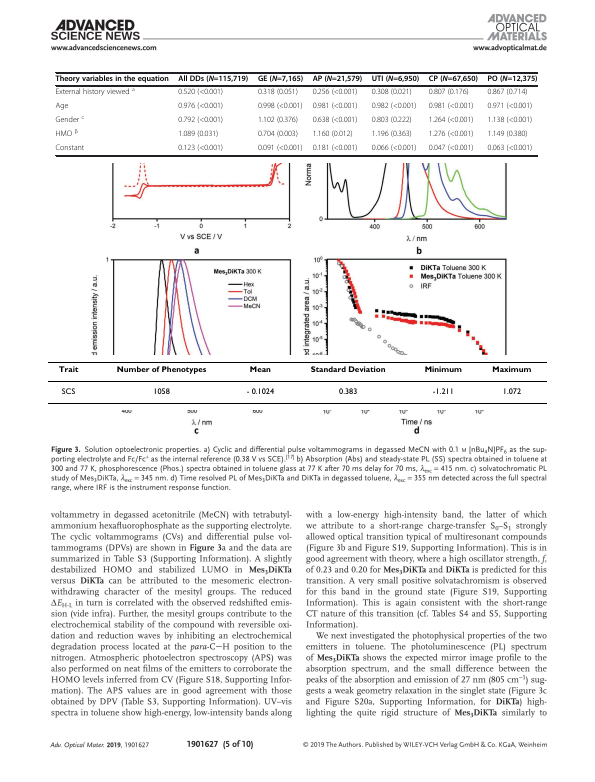borderless: (54, 71, 537, 155), (47, 360, 547, 403)
cell: (55, 75, 170, 84), (54, 86, 136, 98), (115, 365, 207, 374), (309, 365, 386, 374), (177, 75, 249, 84), (177, 88, 224, 98), (177, 102, 224, 112), (486, 102, 533, 112), (177, 116, 224, 126), (486, 116, 533, 126), (177, 144, 224, 154), (486, 144, 533, 154), (486, 75, 538, 84), (312, 88, 358, 98), (257, 102, 303, 112), (312, 102, 358, 112), (371, 102, 417, 112), (428, 102, 474, 112), (312, 116, 358, 126), (428, 116, 474, 126), (428, 130, 474, 140), (257, 144, 303, 154), (312, 144, 358, 154), (371, 144, 417, 154), (428, 144, 474, 154), (312, 75, 363, 84), (428, 75, 479, 84), (371, 75, 420, 84), (257, 75, 304, 84), (257, 88, 299, 98), (371, 88, 413, 98), (428, 88, 470, 98), (486, 88, 528, 98), (257, 116, 299, 126), (371, 116, 413, 126), (177, 130, 219, 140), (257, 130, 299, 140), (371, 130, 413, 140), (486, 130, 528, 140), (312, 130, 353, 140), (491, 365, 532, 374), (55, 114, 85, 126), (423, 365, 462, 374), (55, 144, 85, 154), (55, 128, 79, 140), (245, 387, 275, 395), (248, 365, 271, 374), (57, 365, 79, 374), (431, 387, 454, 395), (501, 387, 522, 395), (338, 387, 358, 395), (152, 387, 170, 395), (55, 102, 69, 112), (60, 387, 76, 395)
